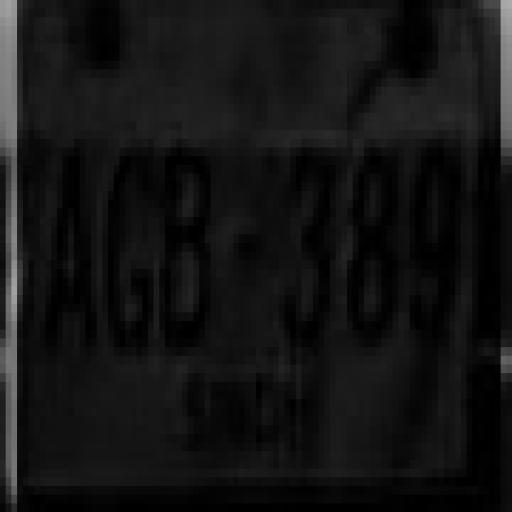3: (276, 127, 340, 350)
8: (348, 137, 402, 360)
9: (408, 127, 458, 359)
A: (40, 144, 96, 374)
B: (162, 140, 215, 354)
G: (98, 132, 162, 368)
